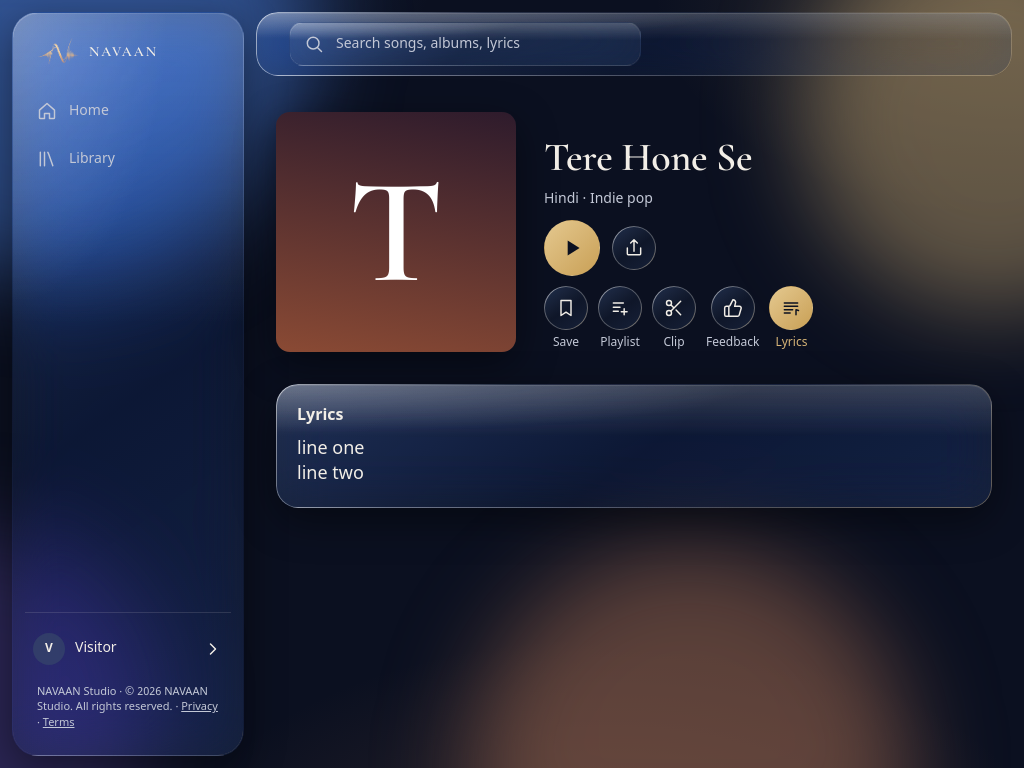
it: feedback on a song › sends the email when one is given, and shows the server's refusal
Click the button named "What did you think?" at (733, 308), box [711, 286, 755, 330]
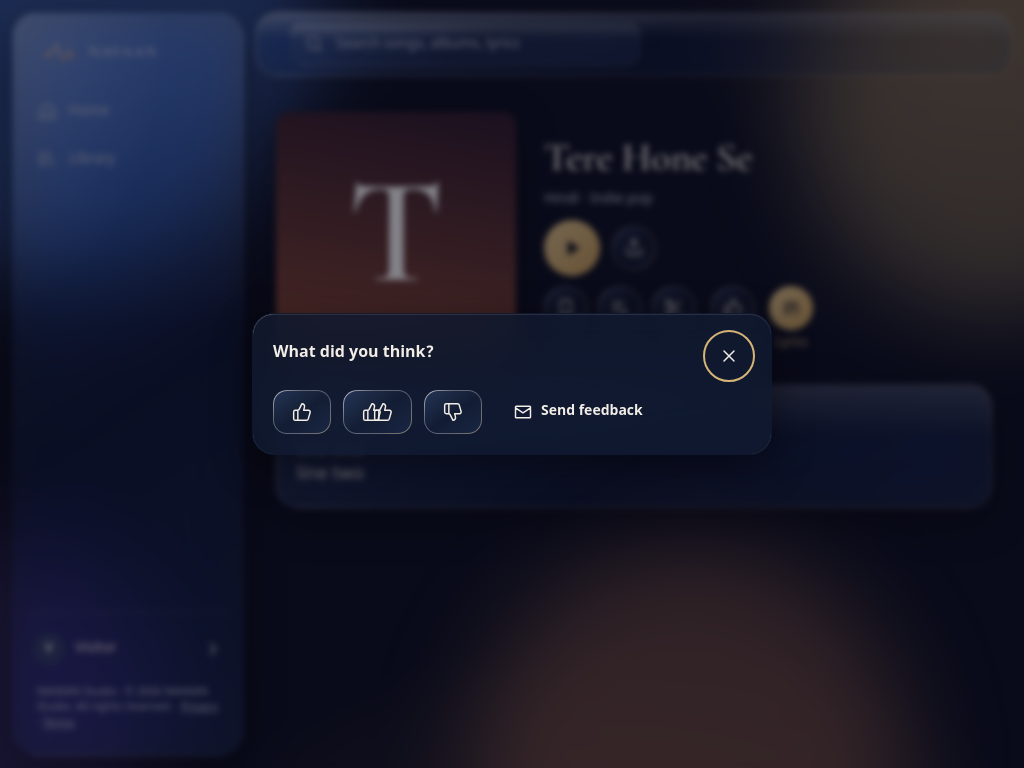
Click the button "Send feedback" at (578, 412), box [494, 390, 662, 434]
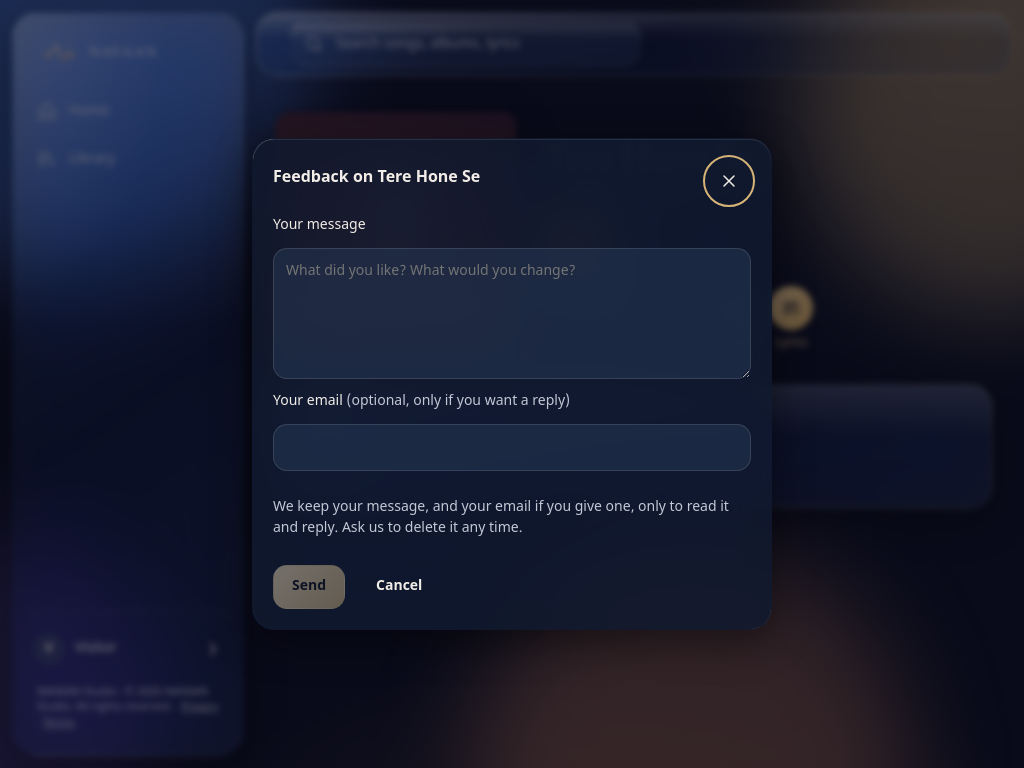
Type "hi" into the text box labelled "Your message" at (512, 314), box [273, 248, 751, 379]
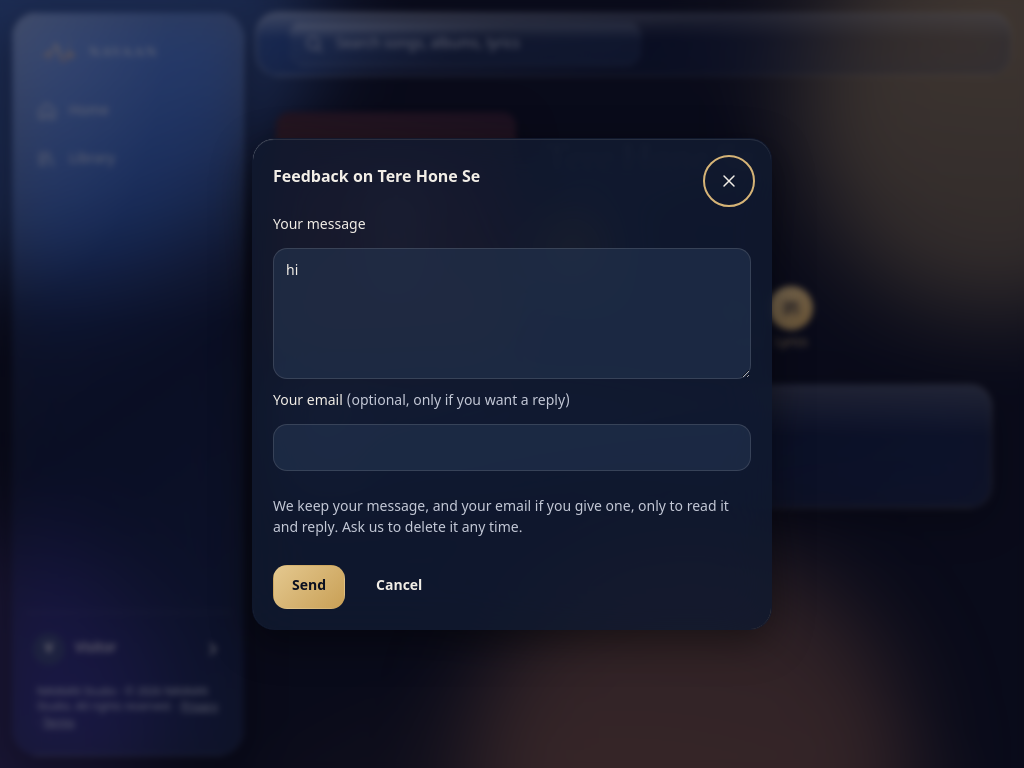
Type "fan@example.com" into the field labelled "Your email (optional, only if you want a reply)" at (512, 448), box [273, 424, 751, 471]
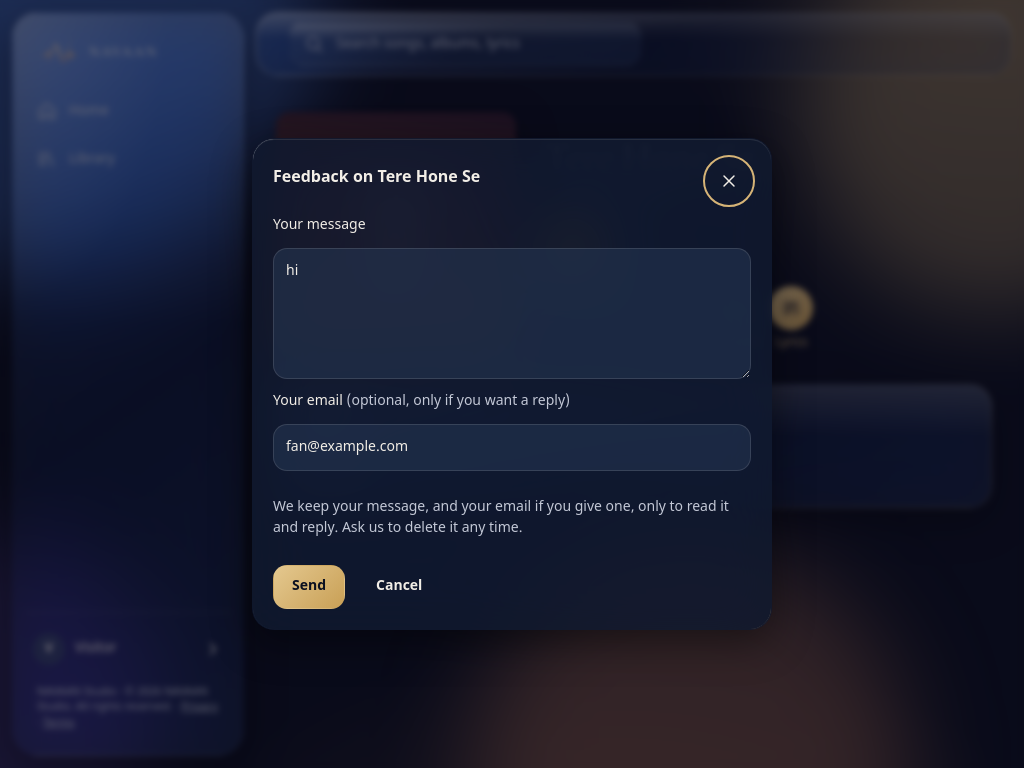
Click the button "Send" at (309, 587), box [273, 565, 345, 609]
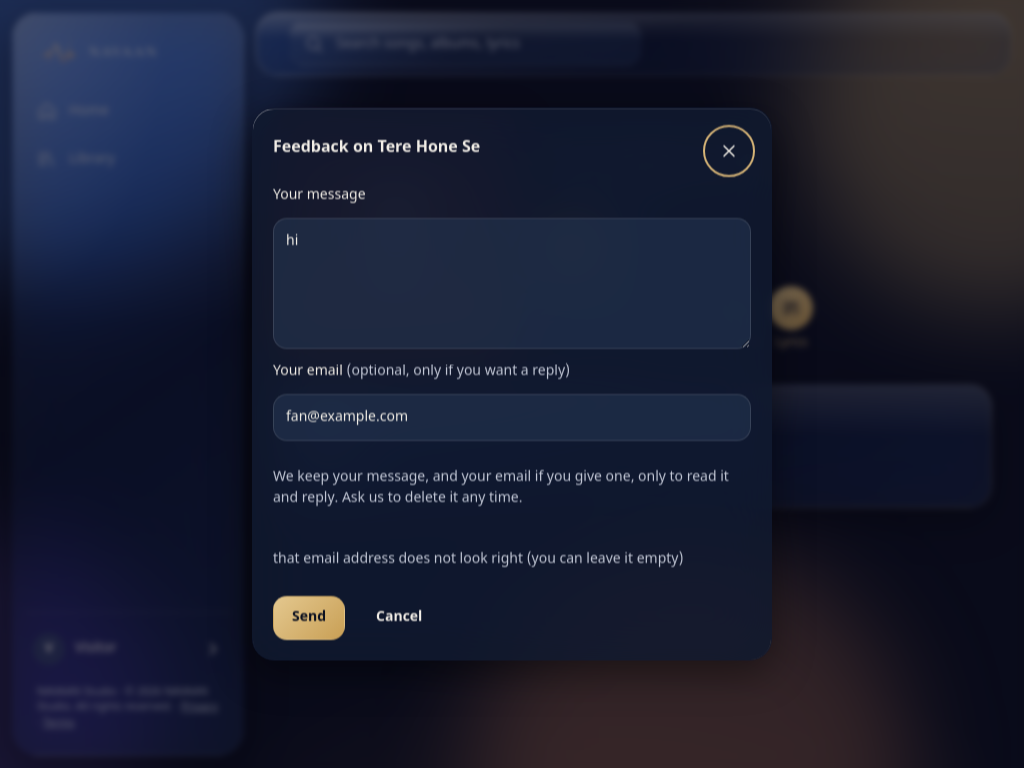
Expected: the message shows "does not look right", [273, 550, 683, 568]
